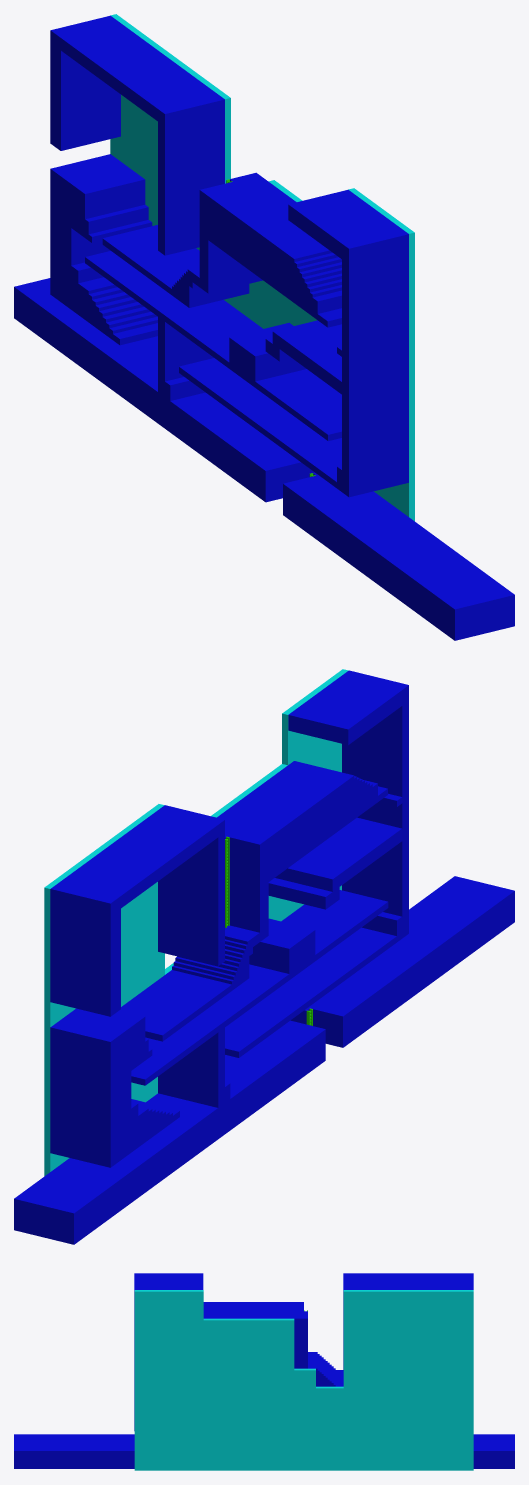
Rendered from Level_3_scene3_colored.fbx.
3 renders of one model, top to bottom at view 1: azimuth 30°, elevation 25°; view 2: azimuth 150°, elevation 25°; view 3: azimuth 270°, elevation 25°, orthographic. The views are drawn at different scales.
Visible parts, largest first — view 1: Cube.016, Cube.019, Cube.018, Cube.017, Cube, Cube.020, Cube.022; view 2: Cube.016, Cube.019, Cube.018, Cube.017, Cube, Cube.020, Cube.022, Cube.021; view 3: Cube, Cube.016, Cube.018, Cube.019.
Boxes of the visible parts, <box> form: Cube.016: <box>14,189,514,640</box>; Cube.019: <box>50,15,224,255</box>; Cube.018: <box>102,175,341,327</box>; Cube.017: <box>50,154,157,345</box>; Cube: <box>110,14,414,521</box>; Cube.020: <box>179,358,341,491</box>; Cube.022: <box>229,322,306,381</box>; Cube.016: <box>14,670,514,1244</box>; Cube.019: <box>50,805,224,1016</box>; Cube.018: <box>120,761,387,1041</box>; Cube.017: <box>50,1008,179,1167</box>; Cube: <box>44,669,348,1176</box>; Cube.020: <box>225,927,402,1057</box>; Cube.022: <box>249,918,315,973</box>; Cube.021: <box>362,912,402,935</box>; Cube: <box>134,1290,473,1470</box>; Cube.016: <box>14,1273,514,1468</box>; Cube.018: <box>203,1302,343,1386</box>; Cube.019: <box>343,1273,473,1370</box>.
Size of the model in its own units: 1099 by 5000 by 12700.
